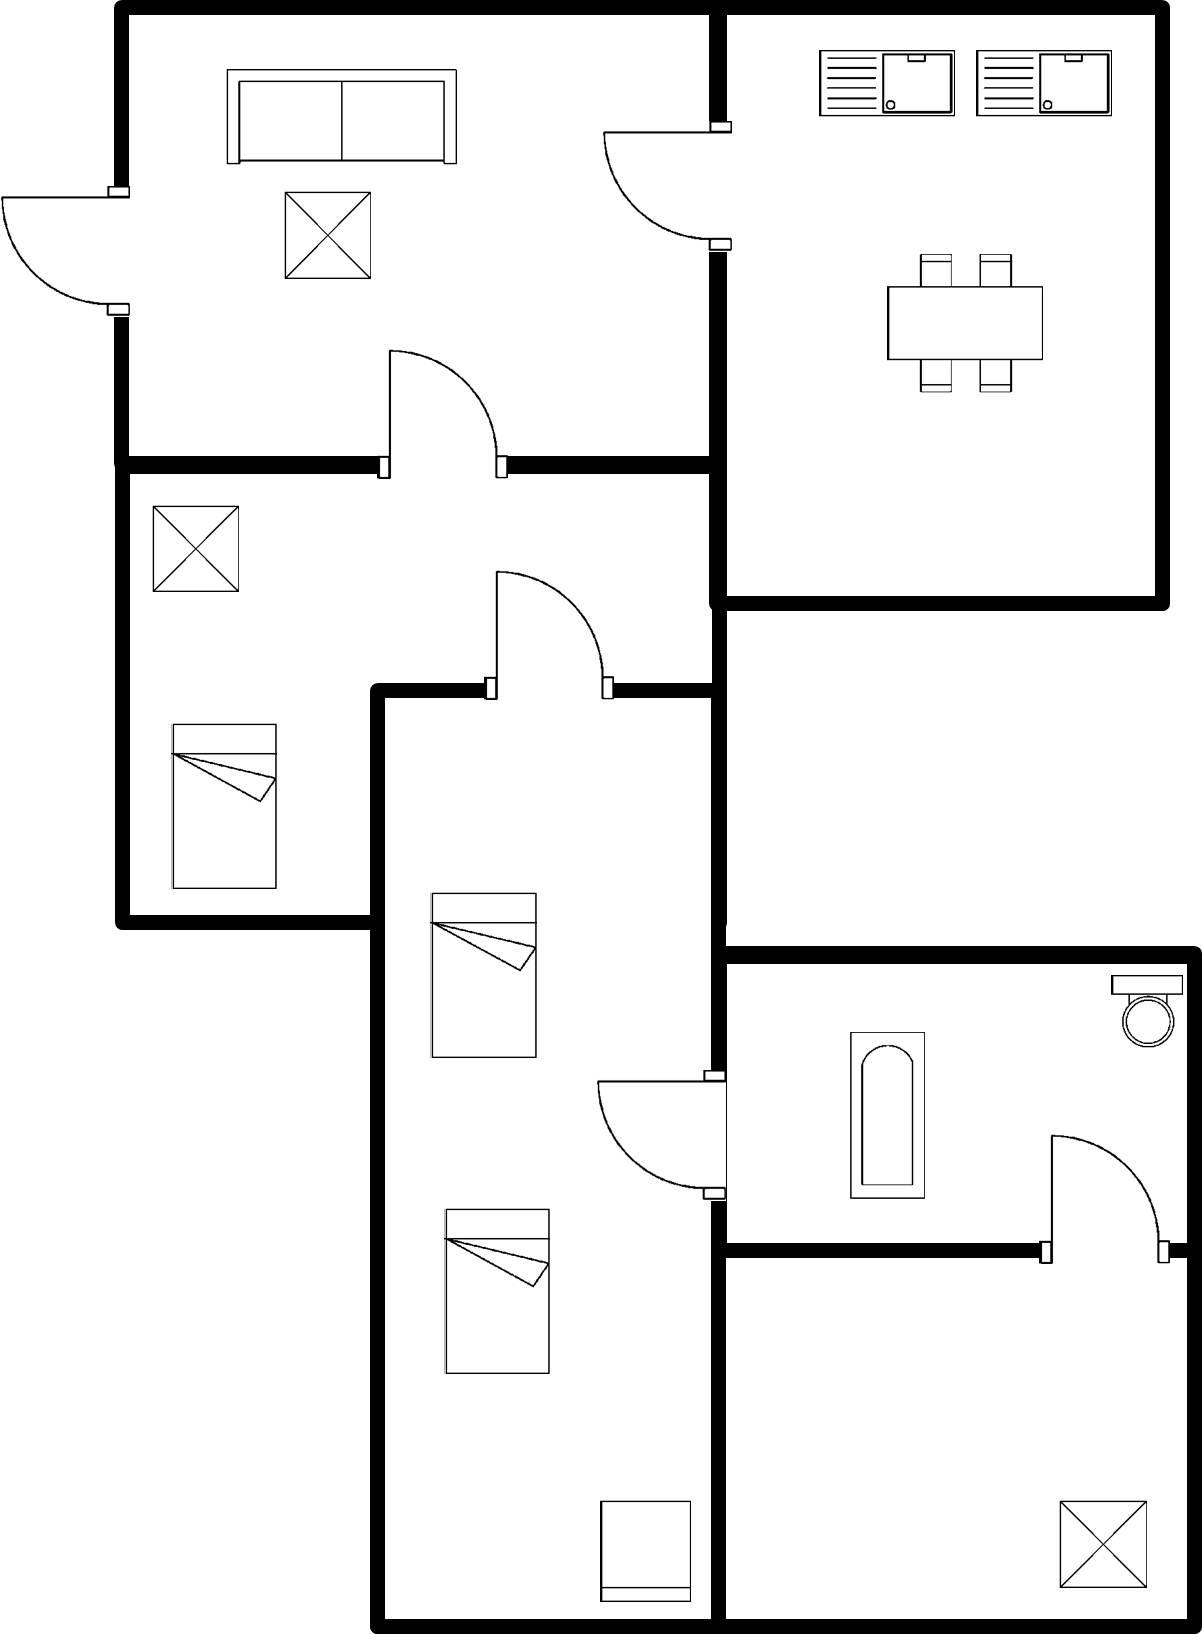bed: (437, 1196, 564, 1388), (418, 883, 546, 1072), (161, 713, 292, 898)
dining_table: (864, 239, 1057, 403)
sink: (805, 36, 962, 133), (970, 39, 1118, 131)
sofa: (213, 55, 468, 175)
toilet: (1102, 964, 1180, 1056)
tub: (834, 1015, 935, 1213)
